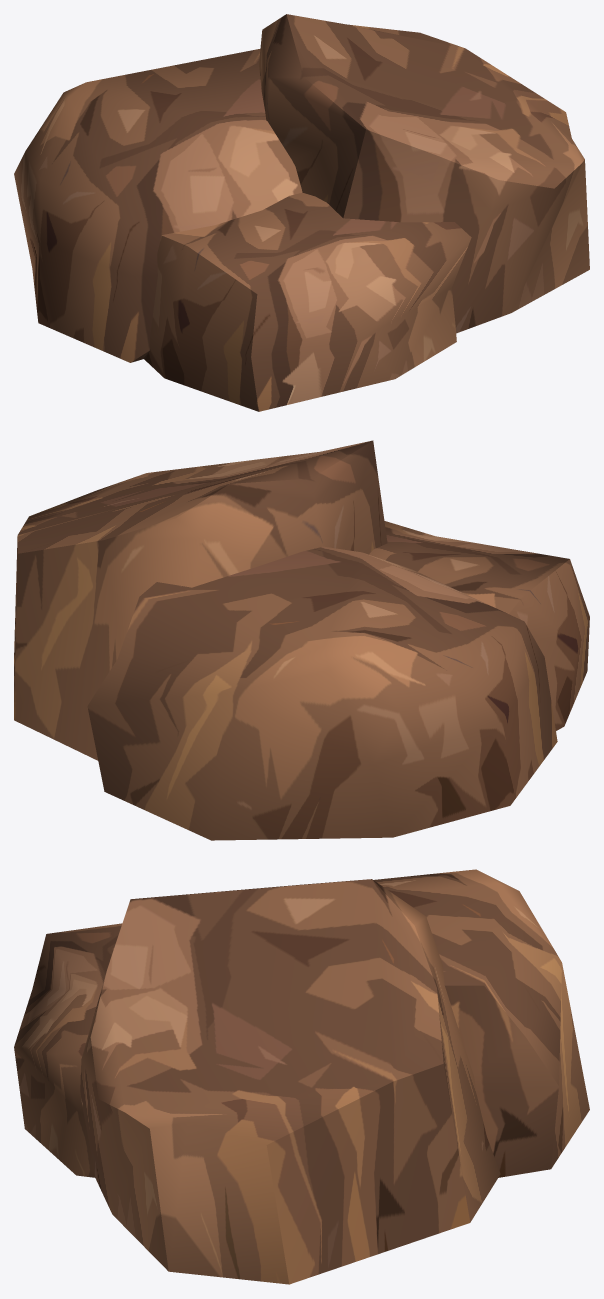
The model's file is rock_4.FBX.
The picture shows the model from 3 angles, top to bottom: view 1: azimuth 30°, elevation 25°; view 2: azimuth 150°, elevation 25°; view 3: azimuth 270°, elevation 25°; orthographic projection. The views are drawn at different scales.
Parts seen in each view (by area): view 1: rock_4; view 2: rock_4; view 3: rock_4.
Part boxes in pixels (box(x1,y1,x2,y2)): rock_4: box(14, 14, 589, 411); rock_4: box(14, 440, 589, 840); rock_4: box(14, 869, 589, 1284).
Size of the model in its own units: 17.06 by 15.27 by 8.03.
1 material, 1 textured.
